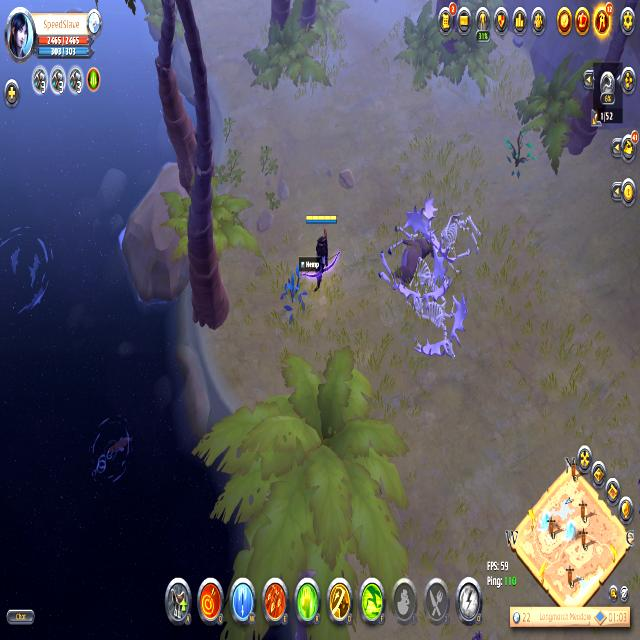mob: (374, 205, 442, 294)
red: (304, 208, 340, 282)
